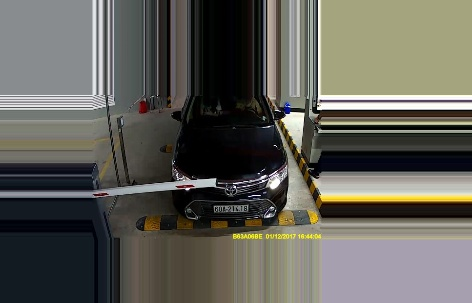plate: (211, 202, 248, 214)
